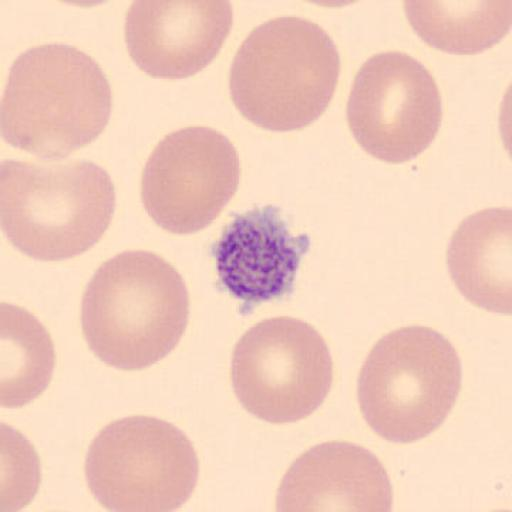Platelet: (208, 204, 313, 312)
RBC: (78, 247, 192, 372), (226, 13, 343, 134), (0, 40, 115, 162), (354, 322, 465, 447), (2, 156, 117, 263), (227, 314, 335, 426), (82, 412, 201, 512), (138, 122, 242, 236), (344, 49, 445, 165), (122, 0, 235, 82), (272, 438, 395, 512), (445, 205, 512, 315), (401, 0, 512, 56), (2, 300, 58, 410), (2, 420, 42, 512), (495, 74, 512, 171), (496, 84, 512, 164), (281, 0, 377, 10), (38, 0, 130, 10)
